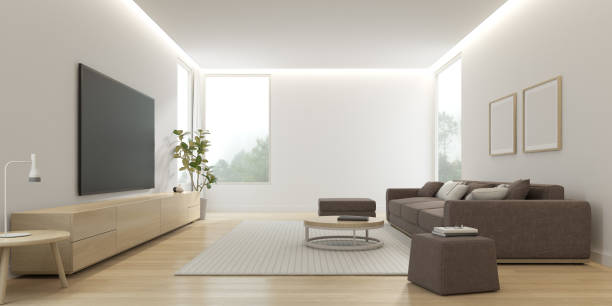TV: (74, 60, 157, 197)
TV stand: (9, 190, 201, 273)
large plant: (176, 127, 216, 221)
side table: (0, 230, 56, 291)
sofa: (383, 175, 593, 265)
table: (301, 211, 386, 254)
table lamp: (0, 151, 46, 237)
wall art: (521, 75, 562, 154), (486, 90, 517, 156)
